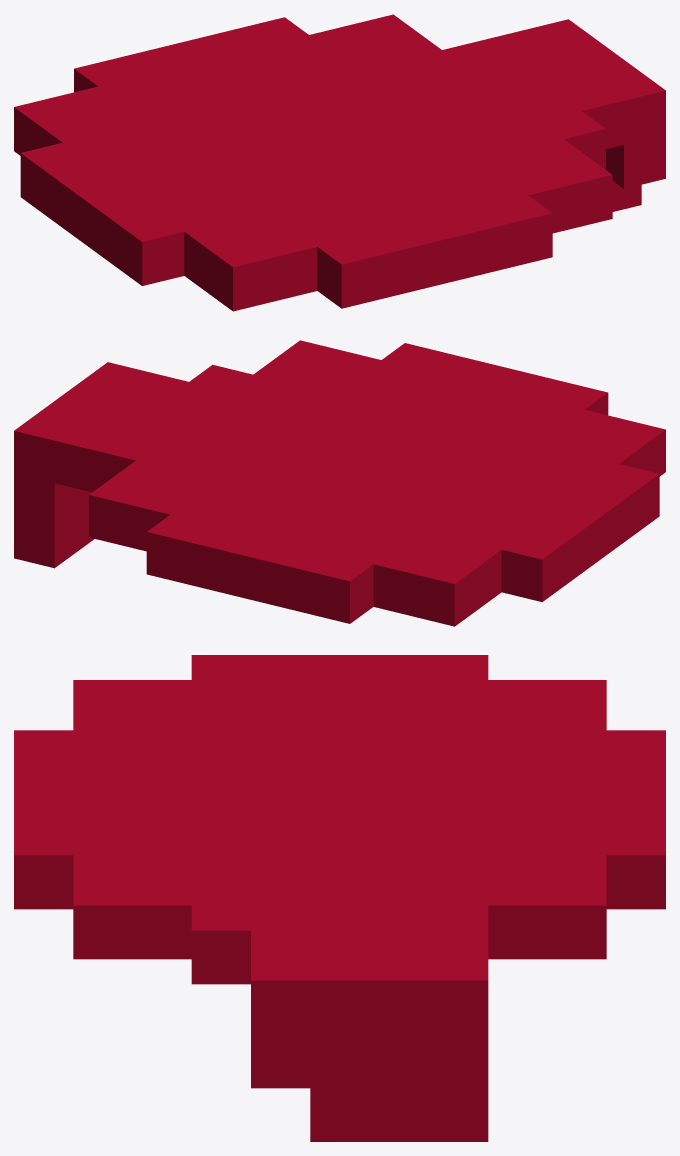
The model's file is paint.fbx.
The picture shows the model from 3 angles, top to bottom: view 1: azimuth 30°, elevation 25°; view 2: azimuth 150°, elevation 25°; view 3: azimuth 270°, elevation 25°; orthographic projection. The views are drawn at different scales.
Visible parts, largest first — view 1: paint; view 2: paint; view 3: paint.
Boxes of the visible parts, x1,y1,x2,y2 form: paint: (14,14,665,311); paint: (14,340,665,626); paint: (14,655,665,1141).
Bounding box in the file's own units: 13 × 3 × 11.
